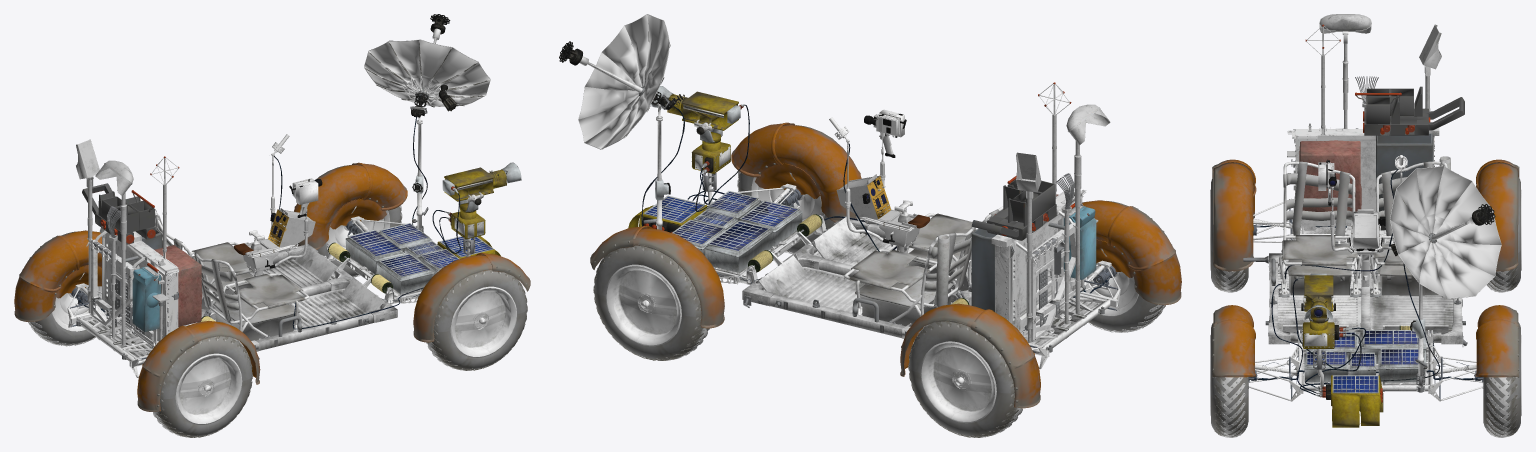
3 views of the same model, side by side, from view 1: azimuth 30°, elevation 25°; view 2: azimuth 150°, elevation 25°; view 3: azimuth 270°, elevation 25° (orthographic). The views are drawn at different scales.
Parts seen in each view (by area): view 1: ApolloRoverRig__1.001_2; view 2: ApolloRoverRig__1.001_2; view 3: ApolloRoverRig__1.001_2.
Boxes of the visible parts, bbox=[...] form: ApolloRoverRig__1.001_2: bbox=[14, 14, 530, 437]; ApolloRoverRig__1.001_2: bbox=[559, 14, 1181, 437]; ApolloRoverRig__1.001_2: bbox=[1210, 14, 1521, 437].
Size of the model in its own units: 3.1 by 1.77 by 1.78.
9 materials, 7 textured.
